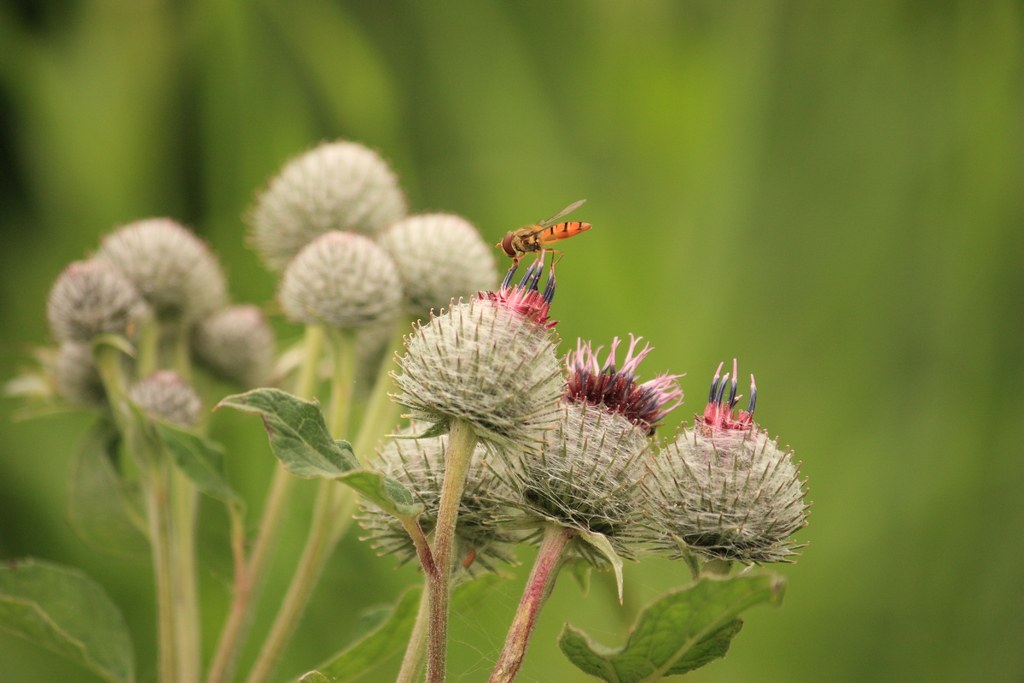insect: (493, 198, 592, 278)
